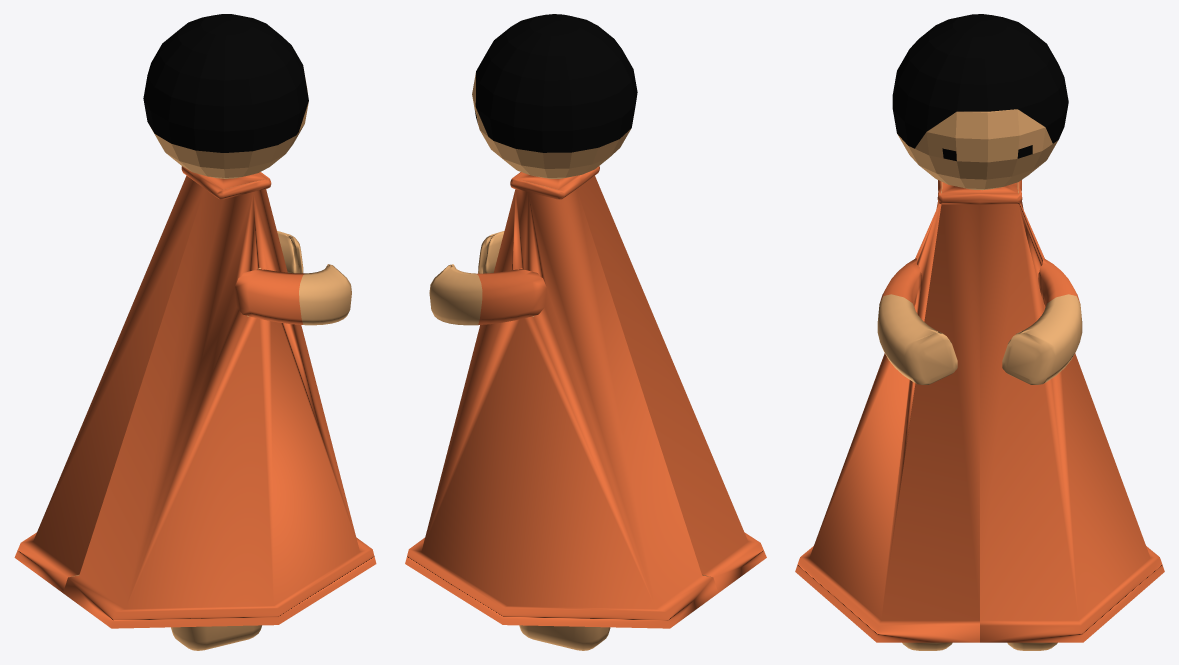
Rendered from Anna.fbx.
3 renders of one model, left to right at view 1: azimuth 30°, elevation 25°; view 2: azimuth 150°, elevation 25°; view 3: azimuth 270°, elevation 25°, orthographic. The views are drawn at different scales.
Parts seen in each view (by area): view 1: Cube; view 2: Cube; view 3: Cube.
Part boxes in pixels (x1,y1,x2,y2): Cube: (14, 14, 376, 650); Cube: (405, 14, 766, 650); Cube: (795, 14, 1164, 650).
Size of the model in its own units: 132 by 282 by 149.
